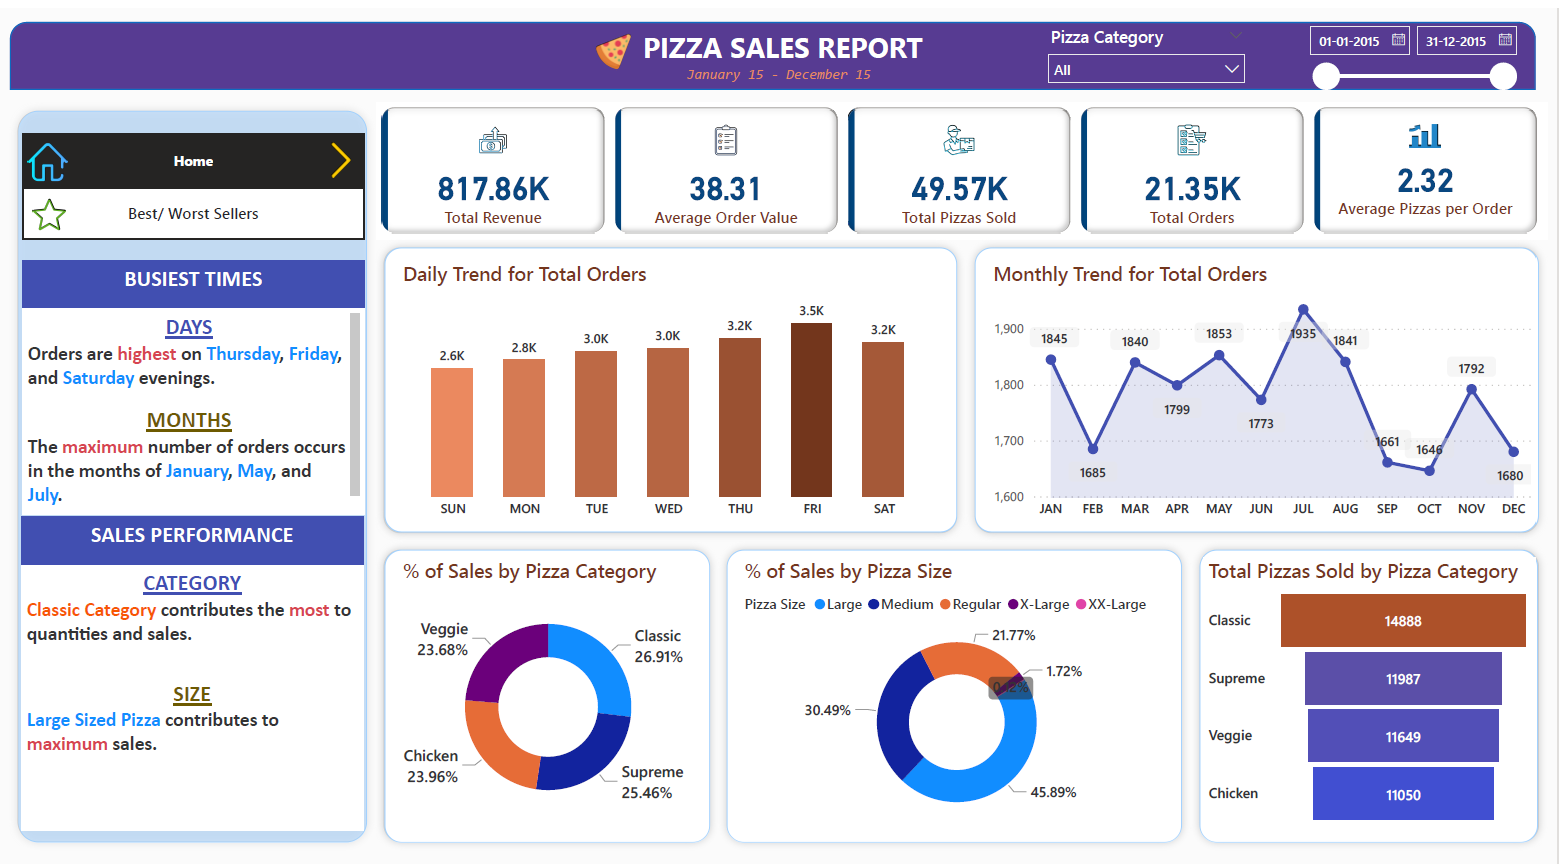

Layout of this report page (visuals, bound fields, positions):
{"tool":"powerbi","page":{"name":"Home","canvas":[1500,820],"ordinal":0},"visuals":[{"type":"cardVisual","fields":{"Data":["pizza_sales.Total Revenue","pizza_sales.Average Order Value","pizza_sales.Total Pizzas Sold","pizza_sales.Total Orders","pizza_sales.Average Pizzas per Order"]},"box":[370.3,90.5,1119.3,130.9],"z":0},{"type":"shape","box":[19.5,90.5,349.4,715.6],"z":1000},{"type":"shape","box":[19.5,12.5,1459,65.4],"z":2000},{"type":"textbox","box":[608.4,12.5,300.7,51.5],"z":3000},{"type":"textbox","box":[629.3,48.7,228.3,30.6],"z":4000},{"type":"image","box":[572.2,19.5,47.3,44.6],"z":5000},{"type":"shape","box":[368.9,221.4,565.2,288.2],"z":6000},{"type":"columnChart","title":"Daily Trend for Total Orders","fields":{"Category":["pizza_sales.Order Day"],"Y":["pizza_sales.Total Orders"]},"box":[389.8,240.8,519.3,256.2],"z":7000},{"type":"shape","box":[934.2,221.4,555.5,288.2],"z":8000},{"type":"areaChart","title":"Monthly Trend for Total Orders","fields":{"Y":["pizza_sales.Total Orders"],"Category":["pizza_sales.Order Month"]},"box":[955,240.8,523.5,256.2],"z":9000},{"type":"shape","box":[368.9,509.5,328.6,296.5],"z":10000},{"type":"shape","box":[697.5,509.5,451.1,296.5],"z":11000},{"type":"shape","box":[1148.6,509.5,341.1,296.5],"z":12000},{"type":"donutChart","title":"% of Sales by Pizza Category","fields":{"Y":["pizza_sales.Total Revenue"],"Category":["pizza_sales.pizza_category"]},"box":[389.8,524.9,288.2,261.7],"z":13000},{"type":"donutChart","title":"% of Sales by Pizza Size","fields":{"Y":["pizza_sales.Total Revenue"],"Category":["pizza_sales.pizza_size"]},"box":[717,524.9,416.3,261.7],"z":14000},{"type":"funnel","title":"Total Pizzas Sold by Pizza Category","fields":{"Y":["pizza_sales.Total Pizzas Sold"],"Category":["pizza_sales.pizza_category"]},"box":[1161.1,524.9,317.4,261.7],"z":15000},{"type":"textbox","box":[30.6,240.8,327.2,45.9],"z":16000},{"type":"textbox","box":[30.6,286.8,327.2,197.7],"z":17000},{"type":"textbox","box":[30.2,531.7,327,255.6],"z":18000},{"type":"textbox","box":[30.2,485.7,327,46],"z":19000},{"type":"slicer","fields":{"Values":["pizza_sales.pizza_category"]},"box":[1001.6,11.1,209.5,66.7],"z":20000},{"type":"slicer","fields":{"Values":["pizza_sales.order_date"]},"box":[1250.2,7,218.6,72.4],"z":21000},{"type":"pageNavigator","box":[30.6,119.7,327.2,50.1],"z":22000},{"type":"pageNavigator","box":[30.6,171.2,327.2,50.1],"z":23000},{"type":"image","box":[313.2,122.5,44.6,44.6],"z":24000},{"type":"image","box":[30.6,119.7,48.7,52.9],"z":25000},{"type":"image","box":[36.2,174,40.4,45.9],"z":26000}]}

Visuals, with their boxes in screenshot pixels (x1, y1, x2, y2), scaled from the page's 1500x820 canvas onto the 1561x864 screenshot:
cardVisual - pizza_sales.Total Revenue x pizza_sales.Average Order Value: crop(385, 95, 1550, 233)
shape: crop(20, 95, 384, 849)
shape: crop(20, 13, 1539, 82)
textbox: crop(633, 13, 946, 67)
textbox: crop(655, 51, 892, 84)
image: crop(595, 21, 645, 68)
shape: crop(384, 233, 972, 537)
"Daily Trend for Total Orders" columnChart: crop(406, 254, 946, 524)
shape: crop(972, 233, 1550, 537)
"Monthly Trend for Total Orders" areaChart: crop(994, 254, 1539, 524)
shape: crop(384, 537, 726, 849)
shape: crop(726, 537, 1195, 849)
shape: crop(1195, 537, 1550, 849)
"% of Sales by Pizza Category" donutChart: crop(406, 553, 706, 829)
"% of Sales by Pizza Size" donutChart: crop(746, 553, 1179, 829)
"Total Pizzas Sold by Pizza Category" funnel: crop(1208, 553, 1539, 829)
textbox: crop(32, 254, 372, 302)
textbox: crop(32, 302, 372, 510)
textbox: crop(31, 560, 372, 830)
textbox: crop(31, 512, 372, 560)
slicer - pizza_sales.pizza_category: crop(1042, 12, 1260, 82)
slicer - pizza_sales.order_date: crop(1301, 7, 1529, 84)
pageNavigator: crop(32, 126, 372, 179)
pageNavigator: crop(32, 180, 372, 233)
image: crop(326, 129, 372, 176)
image: crop(32, 126, 83, 182)
image: crop(38, 183, 80, 232)
